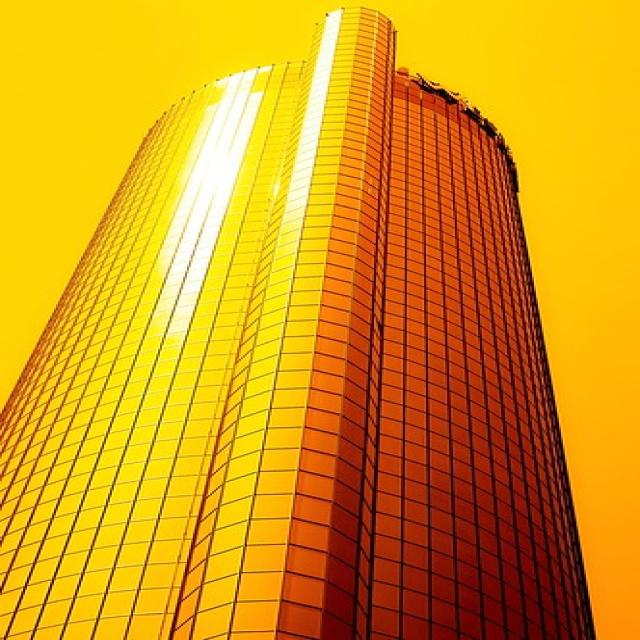building: (5, 1, 608, 640)
